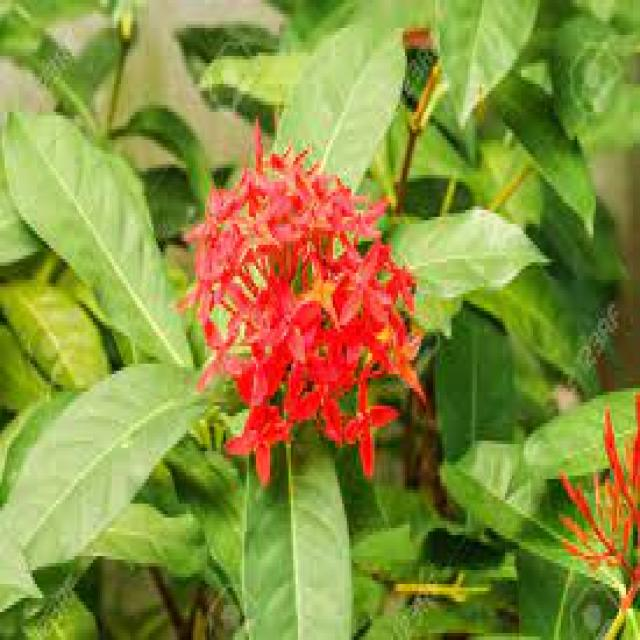Chinese-Ixora: (170, 116, 430, 486), (554, 392, 640, 584)
